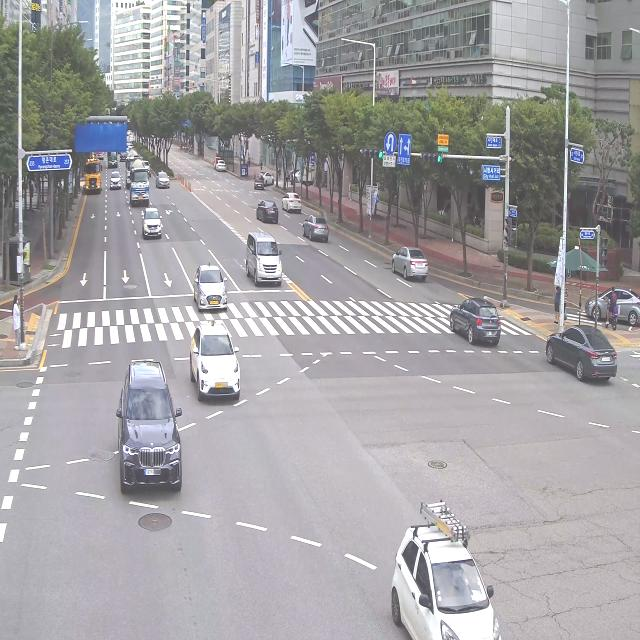Bus: (93, 148, 104, 160)
Car: (384, 494, 502, 640), (117, 350, 182, 512), (537, 314, 620, 410), (189, 317, 244, 407), (446, 294, 504, 353), (242, 218, 287, 292), (193, 262, 235, 316), (390, 238, 427, 284), (140, 205, 166, 250), (302, 211, 332, 248), (255, 195, 284, 229), (277, 192, 306, 217), (154, 164, 178, 192), (110, 164, 124, 197), (258, 168, 276, 186), (253, 172, 266, 192), (290, 169, 302, 183), (216, 159, 227, 173), (142, 158, 152, 172), (286, 168, 294, 180), (119, 150, 127, 162)
Motorcycle: (605, 285, 621, 333)
Truck: (129, 160, 153, 208), (82, 156, 104, 200), (126, 152, 142, 188), (301, 158, 317, 189), (106, 145, 118, 169), (212, 155, 221, 170)
